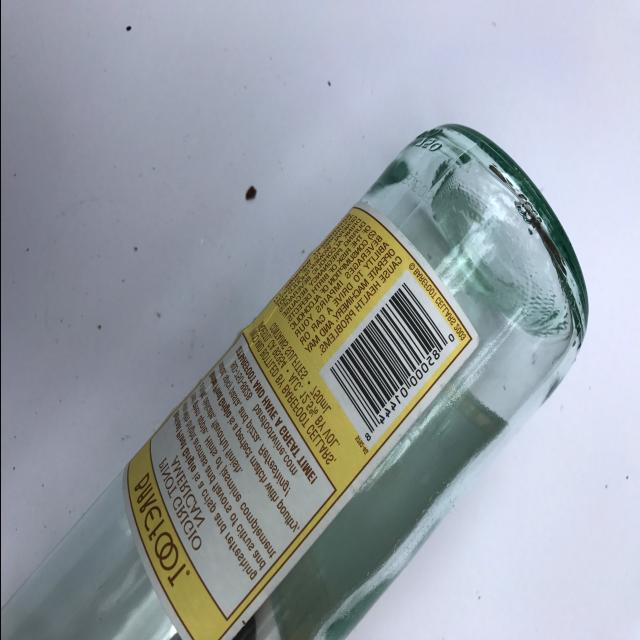Glass: (8, 102, 602, 640)
